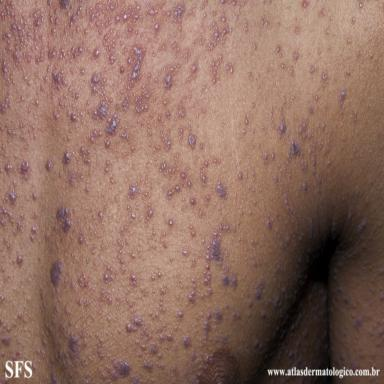lichen: (85, 1, 118, 34), (126, 42, 145, 89), (11, 17, 28, 65), (91, 86, 113, 123), (63, 3, 85, 35), (205, 229, 223, 264), (207, 23, 229, 50), (121, 2, 140, 32), (203, 311, 222, 340), (159, 162, 187, 181), (140, 343, 158, 372), (162, 64, 181, 90), (103, 29, 117, 64), (46, 0, 59, 36), (69, 334, 87, 359), (56, 206, 71, 233), (292, 341, 307, 368), (171, 42, 191, 62), (111, 361, 131, 380), (0, 316, 19, 336), (210, 55, 223, 84), (31, 9, 44, 37), (157, 283, 168, 314), (135, 90, 149, 114), (149, 8, 161, 34), (50, 261, 62, 286), (91, 73, 106, 93), (117, 240, 126, 273), (137, 327, 155, 343), (203, 264, 212, 295), (0, 206, 13, 227), (106, 115, 119, 136), (309, 141, 317, 175), (126, 200, 137, 224), (299, 119, 311, 141), (199, 160, 209, 186), (1, 1, 14, 21), (222, 272, 238, 288), (126, 317, 143, 332), (52, 72, 67, 89), (0, 91, 11, 114), (2, 30, 12, 55), (260, 152, 276, 167), (290, 312, 302, 332), (255, 277, 265, 300), (116, 96, 130, 112), (174, 3, 185, 23), (284, 195, 295, 215), (5, 190, 17, 207), (19, 160, 30, 178), (216, 181, 227, 199), (103, 265, 114, 283), (1, 57, 10, 79), (167, 185, 180, 200), (89, 129, 102, 143), (100, 290, 112, 305), (80, 146, 90, 164), (158, 333, 174, 344), (161, 133, 172, 149), (279, 115, 287, 137), (280, 236, 291, 252), (68, 171, 79, 186), (97, 337, 104, 359), (129, 183, 139, 198), (291, 141, 301, 156), (193, 34, 205, 46), (281, 64, 293, 76), (6, 71, 15, 87), (57, 46, 67, 60), (357, 221, 367, 235), (143, 72, 151, 89), (130, 272, 139, 287), (187, 222, 196, 237), (78, 275, 89, 287), (71, 46, 83, 57), (340, 85, 346, 107), (149, 306, 159, 319), (69, 87, 79, 100), (146, 205, 154, 220), (250, 253, 258, 268), (139, 285, 148, 298), (183, 334, 191, 348), (188, 135, 196, 149), (178, 102, 185, 118), (30, 226, 37, 242), (219, 222, 229, 233), (62, 152, 71, 164), (35, 52, 44, 64), (188, 291, 196, 304), (354, 317, 362, 330), (219, 10, 227, 23), (51, 371, 59, 384), (141, 190, 151, 200), (17, 313, 27, 323), (145, 161, 149, 186), (260, 16, 269, 27), (191, 62, 198, 76), (267, 217, 275, 229), (55, 350, 63, 362), (204, 193, 211, 206), (1, 335, 10, 345), (322, 71, 328, 86), (198, 0, 207, 10), (7, 127, 16, 137), (80, 357, 89, 367), (48, 48, 56, 59), (25, 52, 33, 63), (23, 74, 31, 85), (274, 296, 281, 308), (5, 162, 12, 174), (158, 43, 167, 52), (166, 218, 174, 228), (121, 132, 129, 142), (59, 0, 69, 8), (201, 11, 206, 27), (17, 254, 23, 267), (286, 151, 292, 164), (173, 152, 180, 163), (46, 160, 53, 171), (93, 48, 100, 59), (310, 219, 314, 238), (233, 312, 241, 321), (231, 12, 239, 21), (35, 70, 41, 82), (301, 160, 307, 172), (53, 107, 59, 119), (226, 63, 233, 73), (302, 0, 309, 10), (318, 7, 325, 17), (244, 19, 249, 33), (17, 221, 23, 232), (243, 114, 249, 125), (251, 41, 257, 52), (115, 13, 121, 24), (317, 44, 322, 57), (187, 9, 195, 17), (131, 377, 140, 384), (179, 127, 184, 139), (177, 309, 183, 319), (104, 138, 110, 148), (293, 51, 299, 61), (161, 11, 171, 17), (101, 240, 107, 250), (213, 157, 221, 164), (153, 145, 161, 152), (19, 121, 27, 128), (104, 161, 109, 172), (295, 26, 301, 35), (83, 25, 89, 34), (166, 110, 171, 120), (0, 294, 5, 304), (12, 179, 17, 189), (79, 235, 84, 245), (98, 210, 103, 220), (302, 182, 307, 192), (182, 249, 189, 256), (121, 152, 128, 159), (190, 197, 196, 205), (45, 229, 49, 241), (53, 224, 59, 232), (211, 10, 217, 18), (119, 66, 125, 74), (198, 209, 203, 218), (32, 191, 37, 200), (247, 70, 252, 79), (130, 144, 135, 153), (308, 105, 313, 114), (192, 279, 196, 290), (354, 111, 358, 122), (157, 115, 163, 122), (71, 114, 77, 121), (20, 134, 26, 141), (251, 239, 258, 245), (33, 211, 38, 219), (20, 213, 25, 221), (310, 65, 315, 73), (192, 1, 197, 9), (80, 67, 85, 75), (92, 244, 96, 254), (85, 185, 90, 193), (157, 271, 162, 279), (254, 340, 259, 348), (147, 127, 151, 136), (185, 77, 191, 83), (187, 180, 192, 187), (276, 45, 281, 52), (261, 311, 266, 318), (325, 27, 330, 34), (122, 47, 127, 54), (347, 37, 352, 44), (162, 99, 167, 106), (131, 252, 136, 259), (248, 300, 253, 307), (238, 172, 242, 180), (192, 258, 196, 266), (115, 195, 119, 203), (283, 96, 287, 104), (186, 125, 191, 131), (201, 108, 206, 114), (120, 90, 126, 95), (43, 77, 48, 83), (199, 143, 203, 150), (242, 128, 246, 135), (35, 99, 39, 106), (359, 1, 363, 8), (76, 26, 80, 33), (163, 241, 167, 248), (85, 100, 89, 107), (275, 175, 278, 184), (110, 178, 115, 183), (251, 102, 255, 108), (346, 70, 350, 76), (31, 125, 35, 131), (116, 29, 119, 37), (92, 215, 96, 221), (151, 276, 155, 281), (352, 17, 355, 23), (137, 247, 140, 253), (41, 85, 44, 91), (169, 258, 173, 262), (318, 2, 323, 5), (120, 41, 123, 46), (148, 141, 151, 146), (125, 239, 128, 244), (71, 67, 73, 74), (178, 26, 181, 30), (119, 59, 121, 65), (248, 313, 251, 317), (34, 133, 36, 138), (127, 34, 129, 38)
